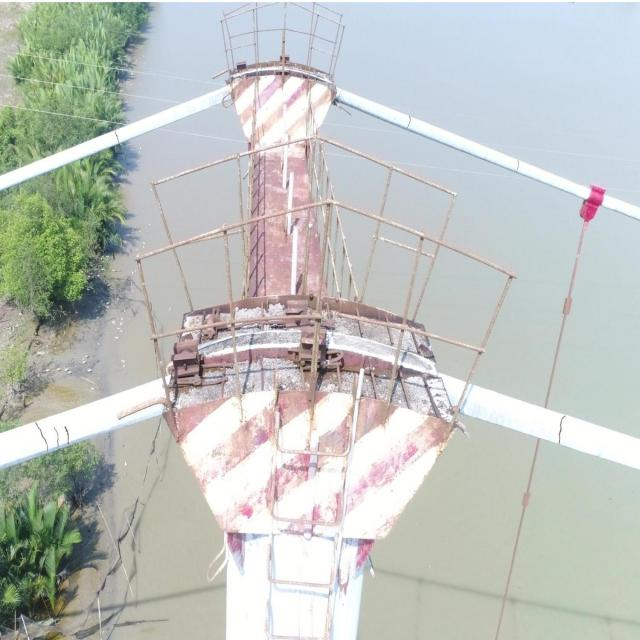crack: (35, 422, 49, 453), (557, 415, 566, 444), (54, 426, 60, 448), (113, 130, 121, 145), (64, 426, 70, 445), (406, 115, 412, 129), (516, 160, 520, 173)
